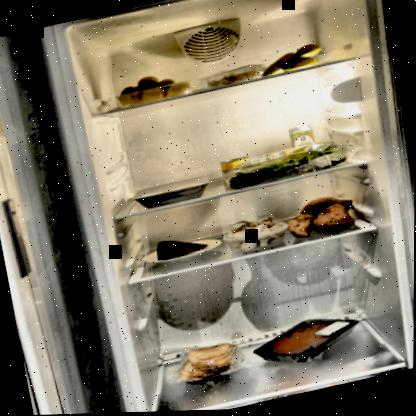banana: (255, 41, 327, 80)
beef: (248, 309, 367, 376)
cheese: (151, 230, 211, 263)
corn: (218, 155, 256, 191)
heavy_cream: (287, 123, 320, 168)
mushrooms: (223, 212, 288, 257)
potato: (111, 66, 194, 111)
shrimp: (207, 65, 275, 92)
spinach: (222, 138, 351, 192)
sweet_potato: (283, 191, 361, 245)
